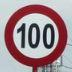Gioi han toc do: (3, 3, 67, 67)
